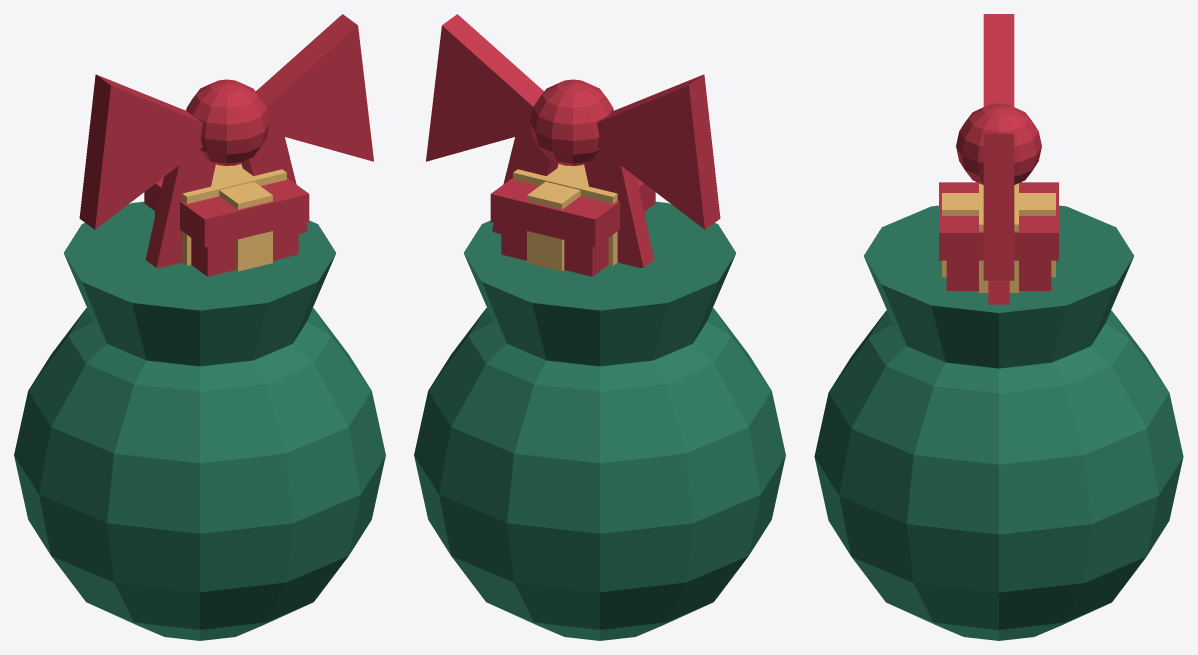
File: three-d-christmas-village-christmas-village-gift-sack-ea1277d2.glb
The picture shows the model from 3 angles, left to right: view 1: azimuth 30°, elevation 25°; view 2: azimuth 150°, elevation 25°; view 3: azimuth 270°, elevation 25°; orthographic projection.
Visible parts, largest first — view 1: gift-sack; view 2: gift-sack; view 3: gift-sack.
Boxes of the visible parts, x1,y1,x2,y2 form: gift-sack: [14, 14, 385, 640]; gift-sack: [414, 14, 785, 640]; gift-sack: [814, 14, 1183, 640].
Size of the model in its own units: 0.61 by 1.01 by 0.6.
